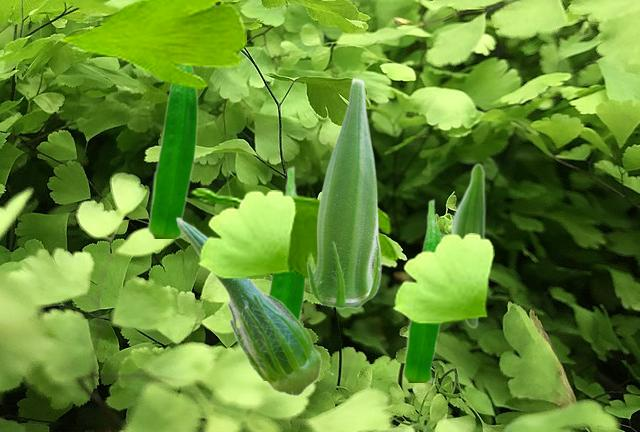okra: (175, 216, 321, 395), (306, 77, 381, 308), (258, 165, 306, 377), (147, 67, 198, 237), (402, 198, 441, 381), (448, 162, 486, 328)
